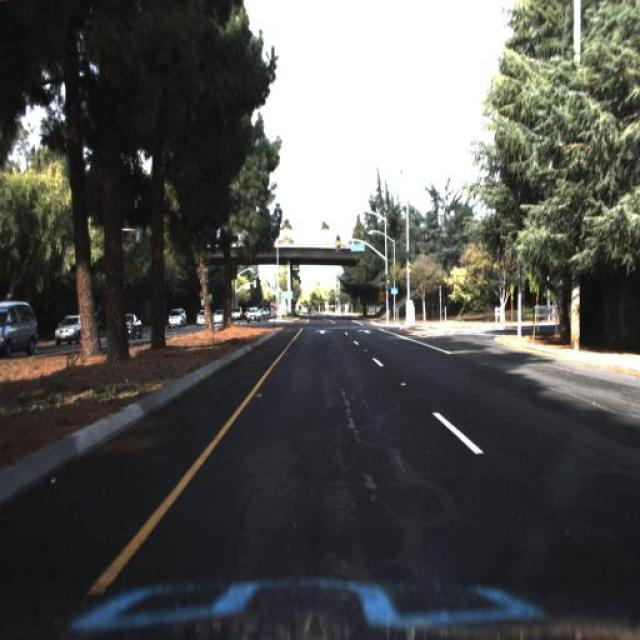car: (0, 298, 39, 357), (52, 314, 86, 346), (124, 308, 144, 342), (164, 304, 188, 332), (166, 306, 189, 329), (246, 302, 266, 323), (182, 298, 197, 322), (233, 300, 248, 324), (213, 309, 225, 327)
trafficLight-YellowLeft: (334, 228, 341, 260)
